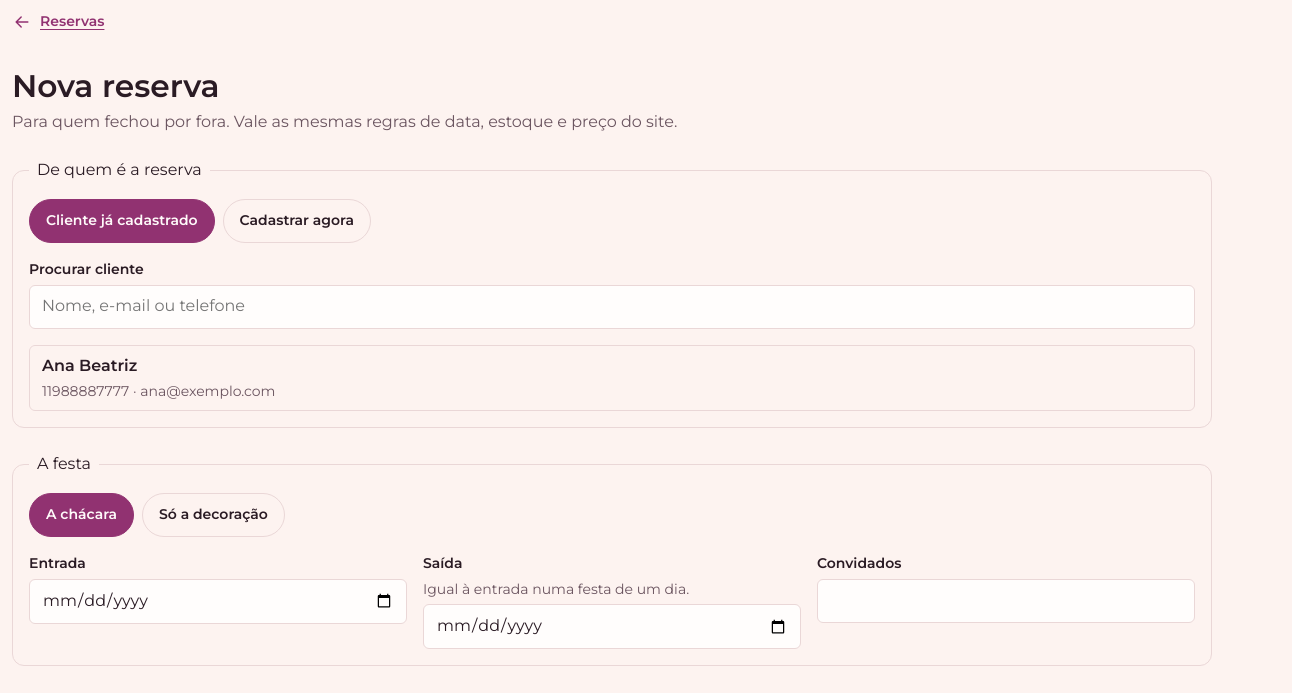
Test: NewBookingPage › lista os clientes e deixa escolher um
The image size is (1292, 693).
What coordinates should you click on to do the following:
click the button "Ana Beatriz 11988887777 · ana@exemplo.com"
I would click on:
 (90, 365)
Its box is [29, 345, 1195, 411].
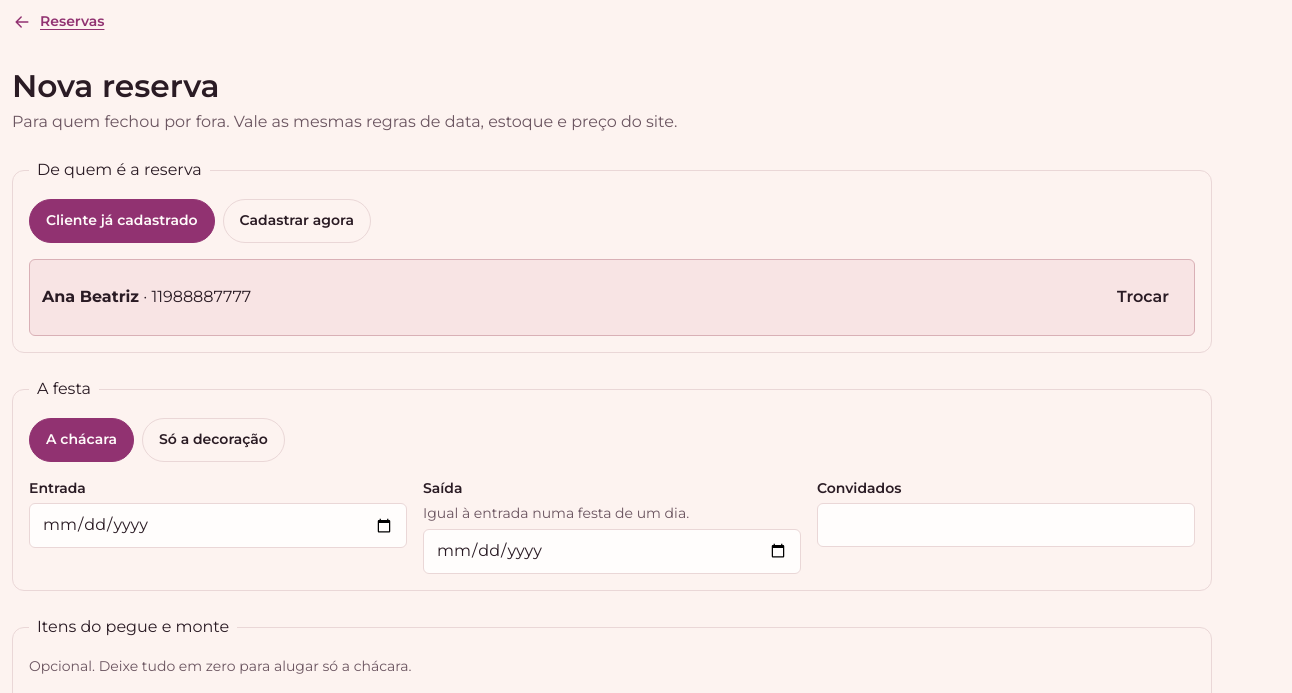
Expected: the text "Ana Beatriz" is shown, [42, 287, 139, 306]
Now the button "Trocar" is shown, box [1104, 272, 1182, 323]
